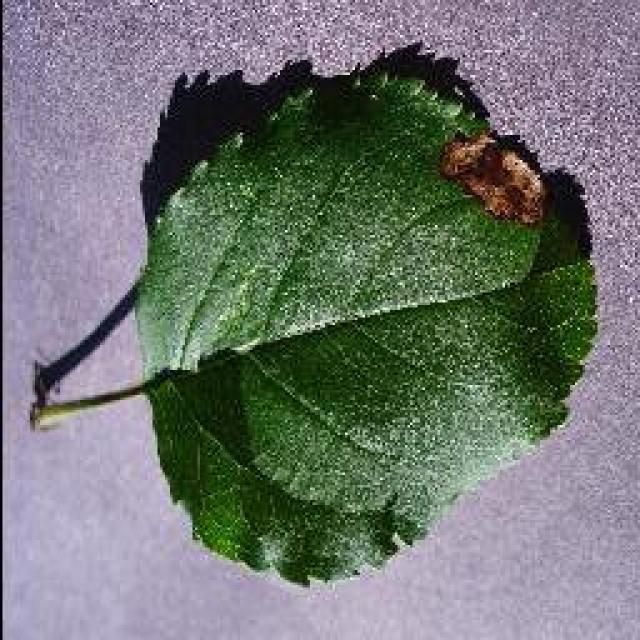Black_rot: (30, 40, 600, 588)
